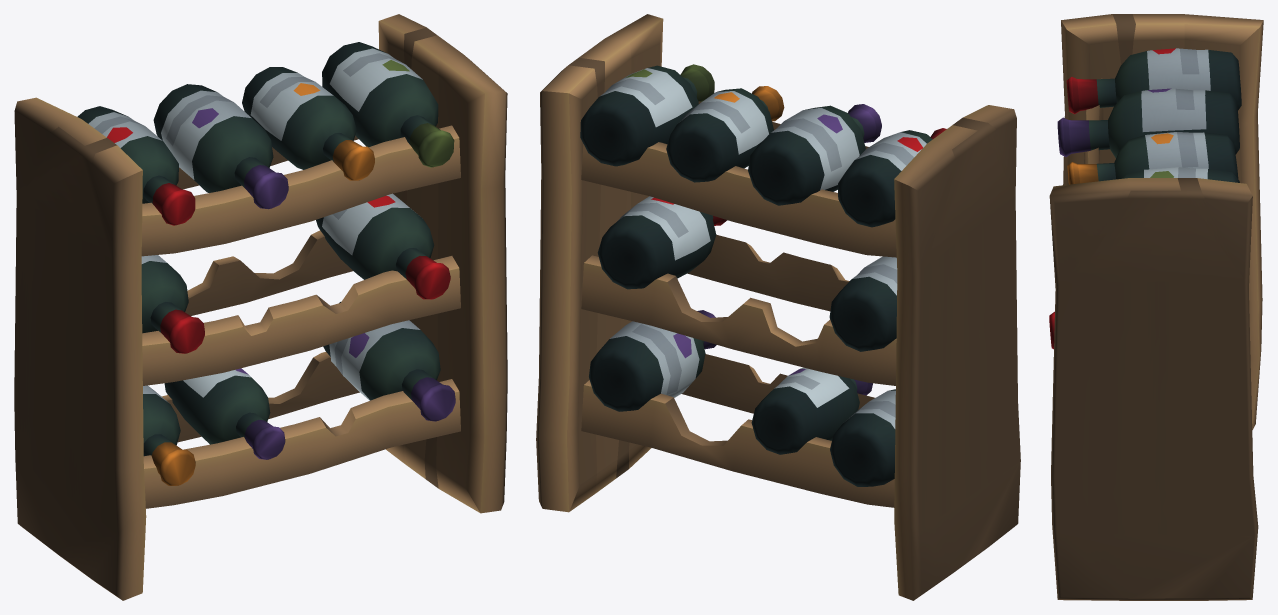
The model's file is tavern_wine_reck.fbx.
The picture shows the model from 3 angles, left to right: view 1: azimuth 30°, elevation 25°; view 2: azimuth 150°, elevation 25°; view 3: azimuth 270°, elevation 25°; orthographic projection. The views are drawn at different scales.
Parts seen in each view (by area): view 1: tavern_wine_reck_LOD0; view 2: tavern_wine_reck_LOD0; view 3: tavern_wine_reck_LOD0.
Part boxes in pixels (<box>): tavern_wine_reck_LOD0: <box>14,14,507,600</box>; tavern_wine_reck_LOD0: <box>536,14,1020,600</box>; tavern_wine_reck_LOD0: <box>1049,14,1263,600</box>.
Size of what is drawn, in the model's own units: 202 by 213 by 101.
